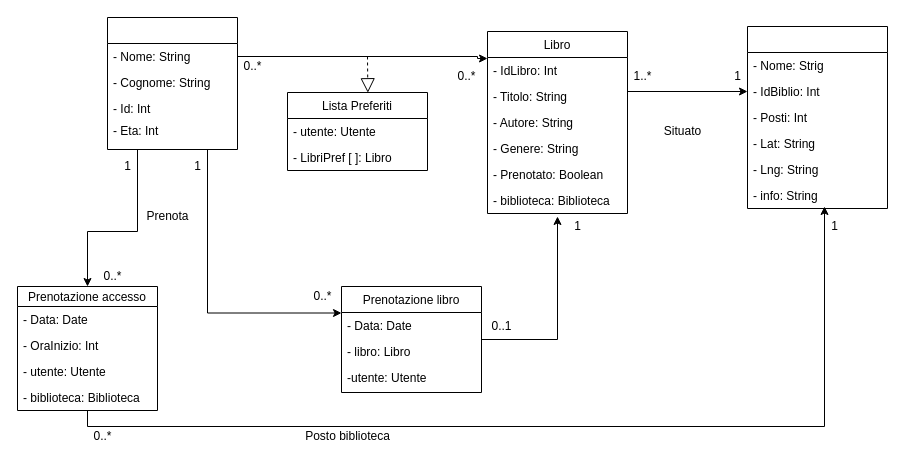
Some shapes in this 905 by 464 pixel diagram are drawn without their labels. Each missing label, with the box of its shape:
Biblioteca: (746, 26, 888, 208)
Utente: (106, 16, 238, 150)
